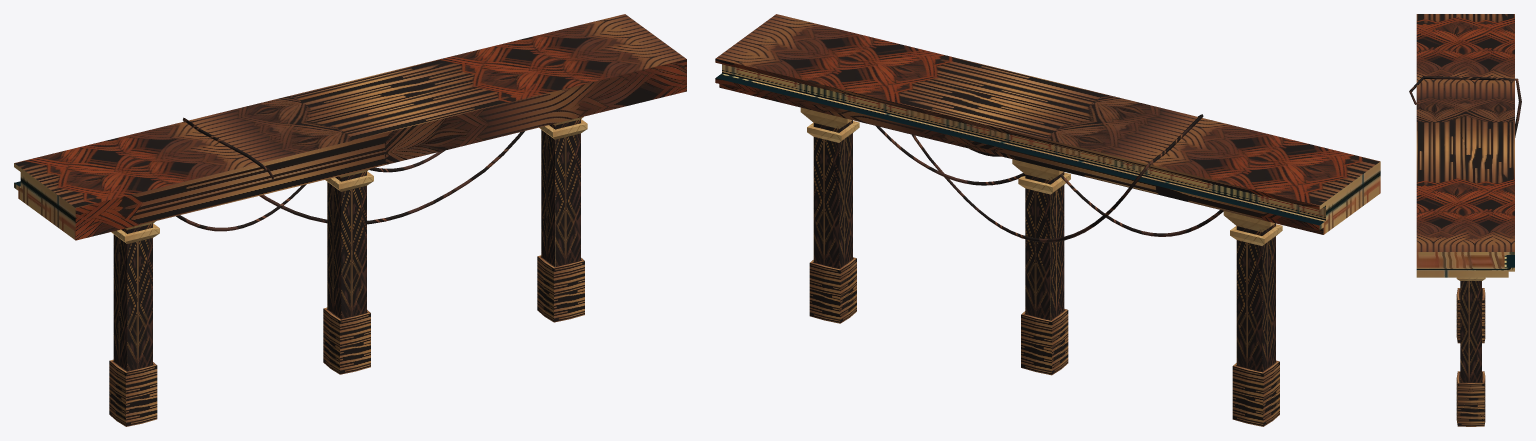
File: PillarConstruct.fbx
3 views of the same model, side by side, from view 1: azimuth 30°, elevation 25°; view 2: azimuth 150°, elevation 25°; view 3: azimuth 270°, elevation 25° (orthographic). The views are drawn at different scales.
Visible parts, largest first — view 1: MidObject.002; view 2: MidObject.002; view 3: MidObject.002.
Part boxes in pixels (x1,y1,x2,y2): MidObject.002: (14, 14, 686, 426); MidObject.002: (715, 14, 1380, 426); MidObject.002: (1409, 14, 1521, 426).
Bounding box in the file's own units: 1000 × 413 × 201.
